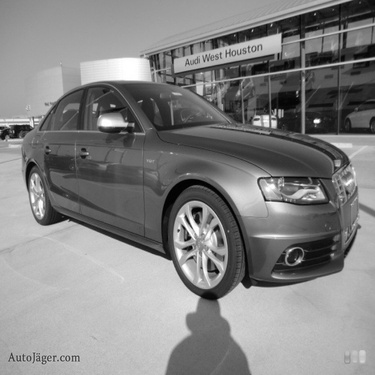car: (15, 67, 363, 306), (326, 94, 372, 140), (225, 105, 283, 133)
